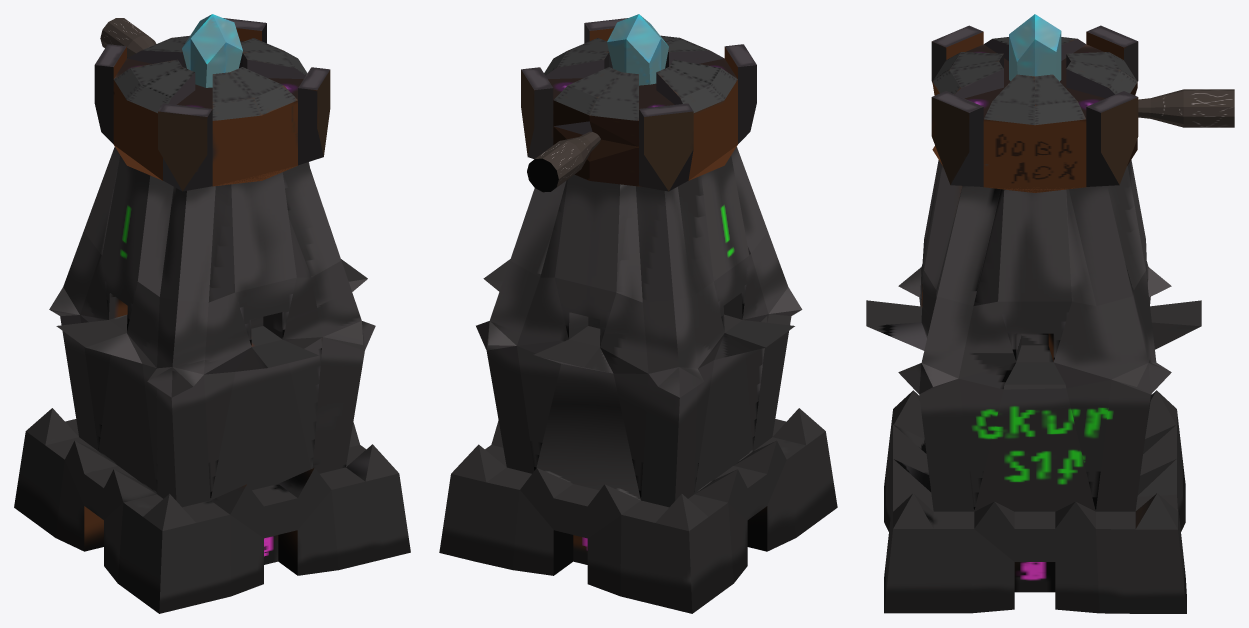
The model's file is VejaORGINAL (2).fbx.
3 views of the same model, side by side, from view 1: azimuth 30°, elevation 25°; view 2: azimuth 150°, elevation 25°; view 3: azimuth 270°, elevation 25° (orthographic). The views are drawn at different scales.
Visible parts, largest first — view 1: Osnova, Verh, Stvol; view 2: Osnova, Verh, Stvol; view 3: Osnova, Verh, Stvol.
Part boxes in pixels (box(x1,y1,x2,y2)): Osnova: box(14, 147, 410, 613); Verh: box(94, 14, 330, 191); Stvol: box(100, 18, 156, 57); Osnova: box(439, 147, 837, 613); Verh: box(521, 14, 756, 191); Stvol: box(527, 131, 600, 192); Osnova: box(866, 160, 1201, 613); Verh: box(931, 14, 1138, 192); Stvol: box(1138, 89, 1234, 127).
Bounding box in the file's own units: 425 × 681 × 390.
